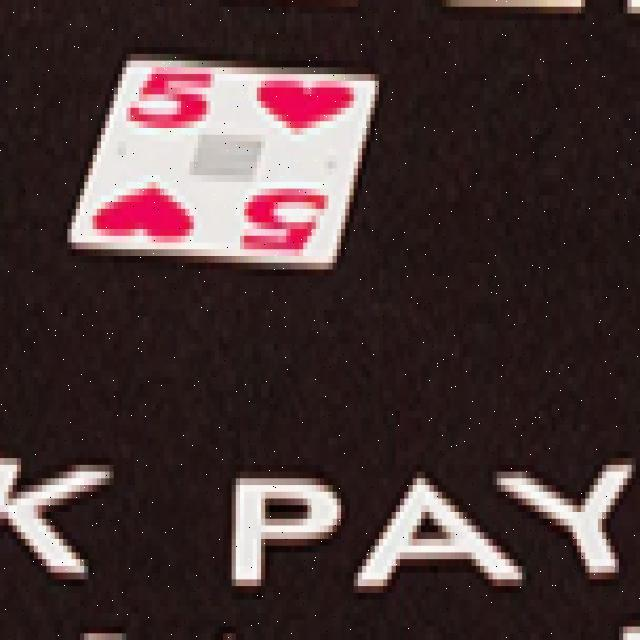Card-5: (69, 58, 378, 268)
